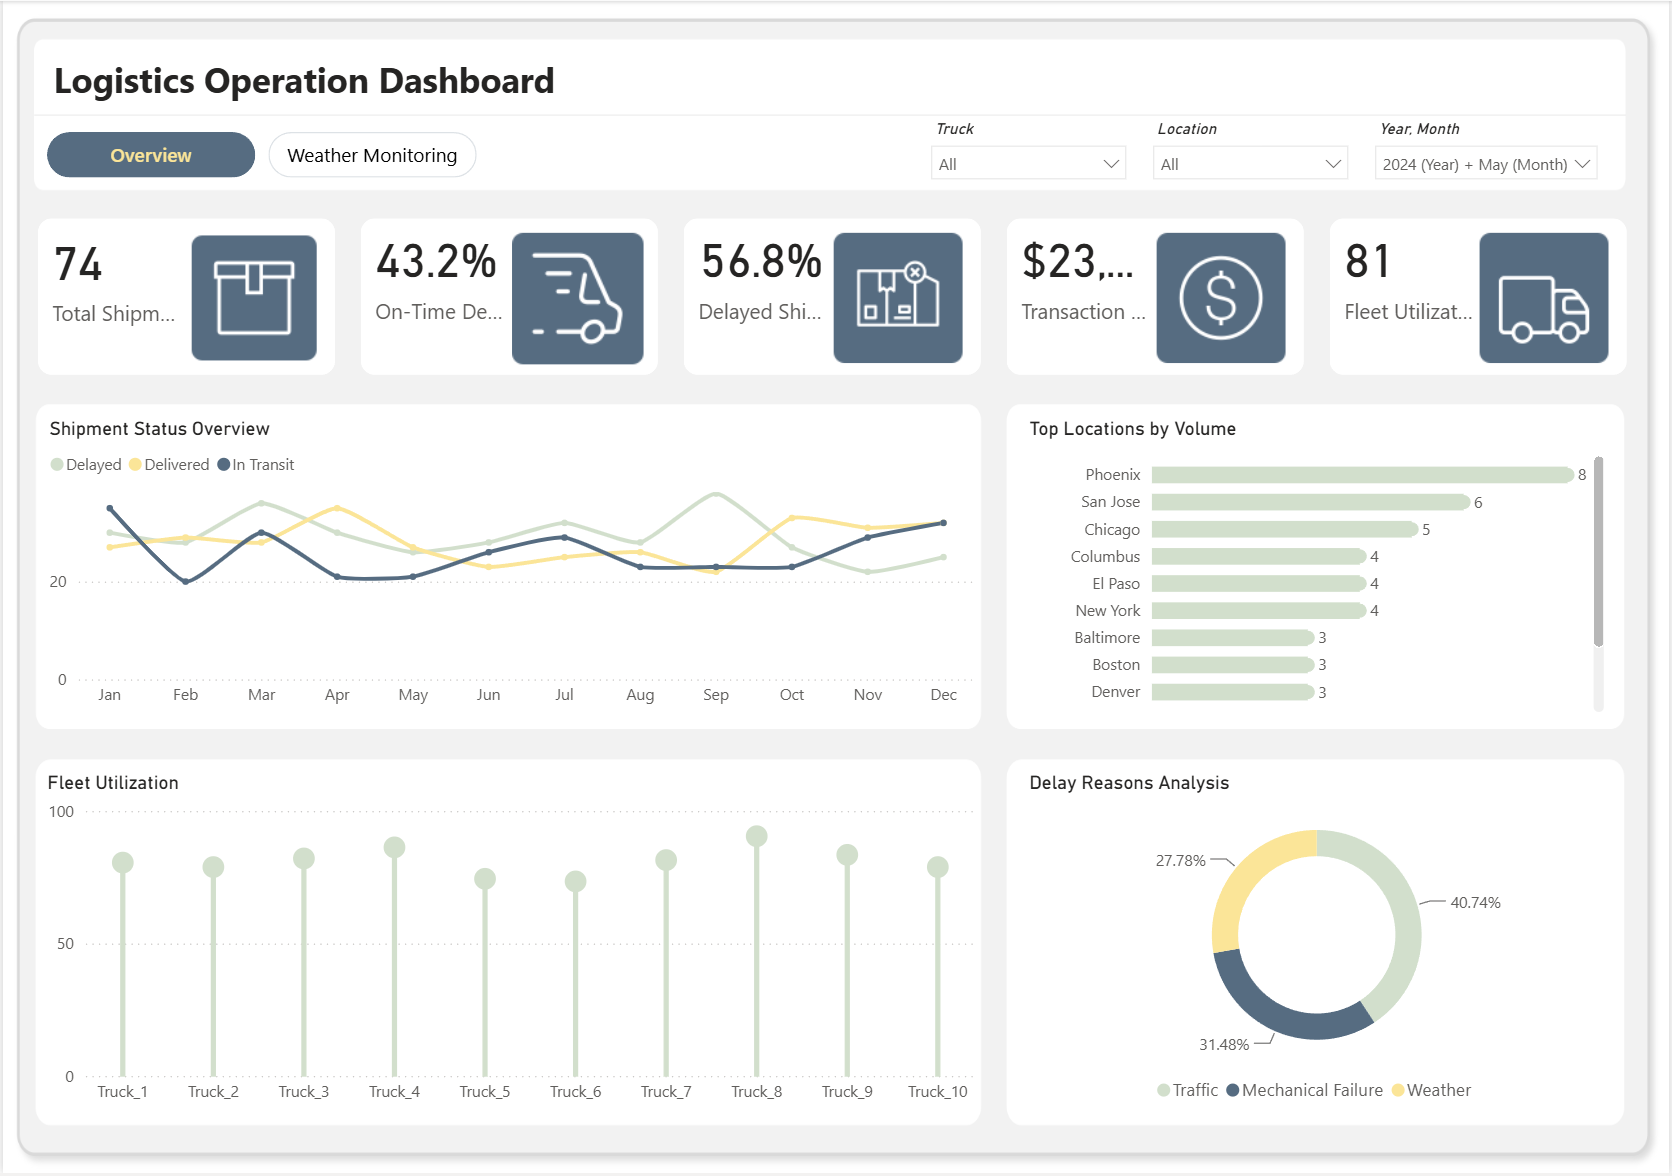

What the dashboard file says about the page in this screenshot:
{"tool":"powerbi","page":{"name":"Overview","canvas":[1280,900],"ordinal":0},"visuals":[{"type":"cardVisual","fields":{"Data":["_Measures.Total Shipments","_Measures.On-Time %","_Measures.Delayed %","_Measures.Total Transactions","_Measures.Avg Utilization"]},"box":[17,161.9,1235,130.9],"z":0},{"type":"lineChart","title":"Shipment Status Overview","fields":{"Category":["Date.Month"],"Y":["_Measures.Total Shipments"],"Series":["LogisticsData.Shipment Status"]},"box":[31,320.3,719.8,230.7],"z":1000},{"type":"barChart","title":"Top Locations by Volume","fields":{"Y":["_Measures.Total Shipments"],"Category":["LogisticsData.City"]},"box":[783.5,320.3,451.2,230.7],"z":2000},{"type":"lineChart","title":"Fleet Utilization ","fields":{"Y":["_Measures.Avg Utilization"],"Category":["LogisticsData.Asset ID"]},"box":[29.3,592.4,721.5,263.5],"z":3000},{"type":"donutChart","title":"Delay Reasons Analysis","fields":{"Category":["LogisticsData.Logistics Delay Reason"],"Y":["_Measures.Total Shipments"]},"box":[783.5,592.4,451.2,263.5],"z":4000},{"type":"slicer","fields":{"Values":["Date.Year","Date.Month"]},"box":[1043.5,86,191.1,58.5],"z":5000},{"type":"slicer","fields":{"Values":["LogisticsData.City"]},"box":[873,86,170.5,62],"z":6000},{"type":"slicer","fields":{"Values":["LogisticsData.Asset ID"]},"box":[702.6,86,170.5,55.1],"z":7000},{"type":"pageNavigator","box":[34,100.4,330.6,35.5],"z":8000},{"type":"textbox","box":[34,37.1,431,49.4],"z":9000}]}

Visuals, with their boxes in screenshot pixels (x1, y1, x2, y2), scaled from the page's 1280x900 canvas onto the 1672x1176 screenshot:
cardVisual - _Measures.Total Shipments x _Measures.On-Time %: BBox(22, 212, 1635, 383)
"Shipment Status Overview" lineChart: BBox(40, 419, 981, 720)
"Top Locations by Volume" barChart: BBox(1023, 419, 1613, 720)
"Fleet Utilization " lineChart: BBox(38, 774, 981, 1118)
"Delay Reasons Analysis" donutChart: BBox(1023, 774, 1613, 1118)
slicer - Date.Year x Date.Month: BBox(1363, 112, 1613, 189)
slicer - LogisticsData.City: BBox(1140, 112, 1363, 193)
slicer - LogisticsData.Asset ID: BBox(918, 112, 1140, 184)
pageNavigator: BBox(44, 131, 476, 178)
textbox: BBox(44, 48, 607, 113)
